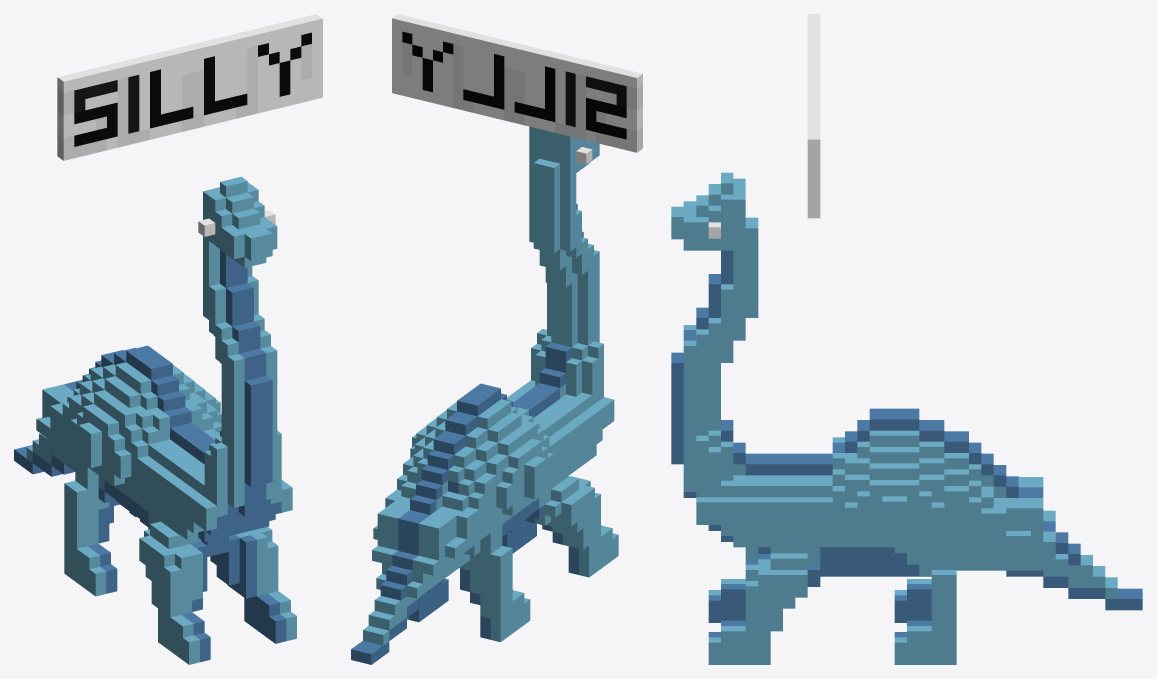
Rendered from dino-q0-b.obj.
The picture shows the model from 3 angles, left to right: view 1: azimuth 30°, elevation 25°; view 2: azimuth 150°, elevation 25°; view 3: azimuth 270°, elevation 25°; orthographic projection. The views are drawn at different scales.
Visible parts, largest first — view 1: Matrix_7; view 2: Matrix_7; view 3: Matrix_7.
Boxes of the visible parts, x1,y1,x2,y2 form: Matrix_7: (14,14,322,664); Matrix_7: (351,14,642,664); Matrix_7: (671,14,1142,664).
Bounding box in the file's own units: 24 × 50 × 38.
Materials: 1 (1 with a texture image).
